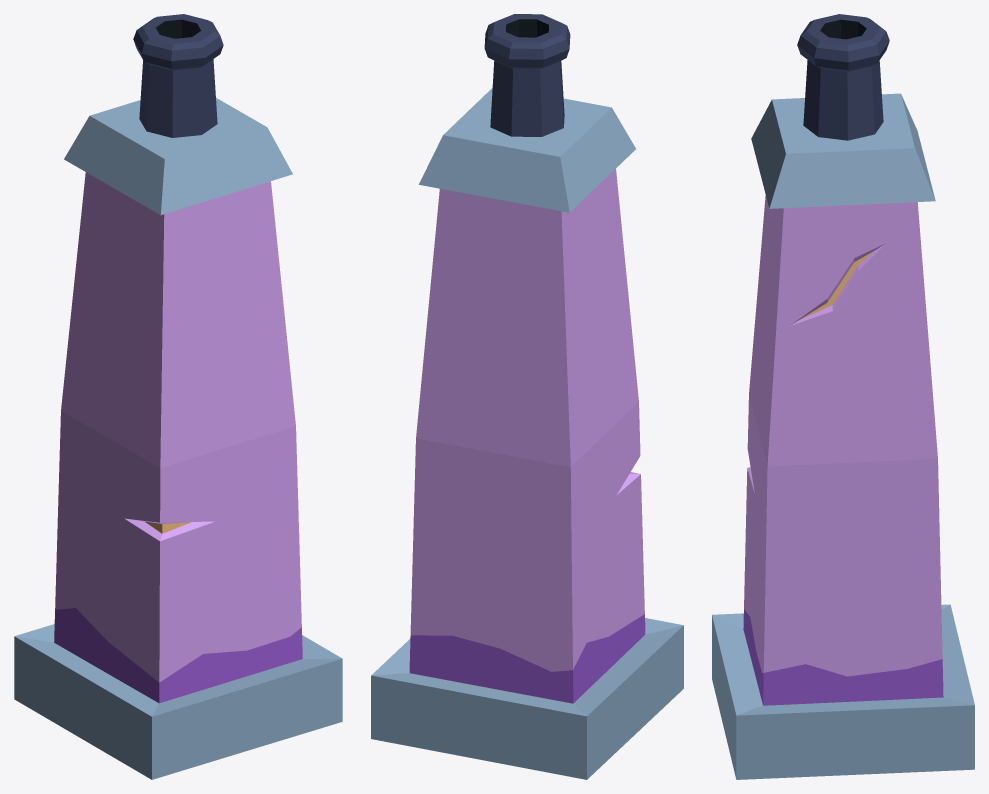
File: Chimney 05.fbx
3 renders of one model, left to right at view 1: azimuth 30°, elevation 25°; view 2: azimuth 150°, elevation 25°; view 3: azimuth 270°, elevation 25°, orthographic.
Parts seen in each view (by area): view 1: Chimney 05; view 2: Chimney 05; view 3: Chimney 05.
Boxes of the visible parts, bbox=[...] form: Chimney 05: bbox=[14, 14, 342, 779]; Chimney 05: bbox=[371, 14, 683, 779]; Chimney 05: bbox=[712, 14, 974, 779].
Bounding box in the file's own units: 139 × 408 × 139.
